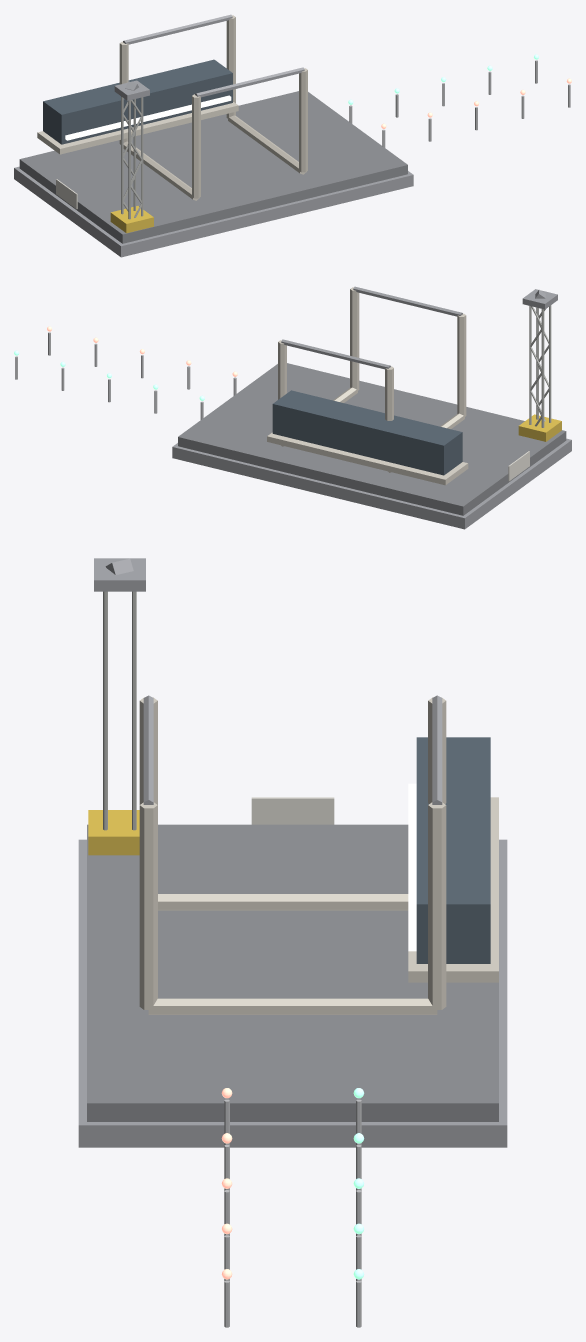
The model's file is render.glb.
3 views of the same model, one above another, from view 1: azimuth 30°, elevation 25°; view 2: azimuth 150°, elevation 25°; view 3: azimuth 270°, elevation 25° (orthographic). The views are drawn at different scales.
Parts seen in each view (by area): view 1: deck, walk_glass, deck_frame, cradle_f, cradle_a, walk_deck, mast_col, walk_glow, mast_foot, cradle_tie_s, cradle_tie_p, mast_head (+1 smaller); view 2: deck, walk_glass, deck_frame, walk_deck, mast_col, cradle_a, cradle_f, mast_foot, cradle_tie_p, cradle_tie_s, mast_head, plate; view 3: deck, deck_frame, walk_glass, cradle_f, cradle_a, walk_deck, mast_col, plate, mast_foot, walk_glow, mast_head, cradle_tie_p (+1 smaller).
Boxes of the visible parts, x1=… form: deck: x1=19, y1=91, x2=407, y2=243; walk_glass: x1=43, y1=59, x2=232, y2=144; deck_frame: x1=14, y1=166, x2=413, y2=257; cradle_f: x1=226, y1=15, x2=307, y2=174; cradle_a: x1=119, y1=41, x2=200, y2=200; walk_deck: x1=37, y1=102, x2=238, y2=154; mast_col: x1=121, y1=96, x2=143, y2=219; walk_glow: x1=65, y1=95, x2=231, y2=140; mast_foot: x1=110, y1=206, x2=153, y2=233; cradle_tie_s: x1=195, y1=67, x2=304, y2=97; cradle_tie_p: x1=123, y1=14, x2=232, y2=44; mast_head: x1=114, y1=80, x2=149, y2=100; deck: x1=178, y1=363, x2=566, y2=515; walk_glass: x1=272, y1=390, x2=462, y2=475; deck_frame: x1=172, y1=438, x2=571, y2=529; walk_deck: x1=267, y1=432, x2=468, y2=485; mast_col: x1=529, y1=305, x2=551, y2=427; cradle_a: x1=385, y1=313, x2=466, y2=472; cradle_f: x1=278, y1=287, x2=359, y2=446; mast_foot: x1=518, y1=414, x2=561, y2=441; cradle_tie_p: x1=281, y1=339, x2=390, y2=369; cradle_tie_s: x1=353, y1=286, x2=462, y2=316; mast_head: x1=522, y1=289, x2=557, y2=309; plate: x1=508, y1=451, x2=529, y2=481; deck: x1=87, y1=824, x2=498, y2=1121; deck_frame: x1=78, y1=839, x2=507, y2=1147; walk_glass: x1=416, y1=737, x2=490, y2=963; cradle_f: x1=139, y1=802, x2=446, y2=1014; cradle_a: x1=139, y1=697, x2=446, y2=910; walk_deck: x1=408, y1=797, x2=498, y2=982; mast_col: x1=103, y1=591, x2=136, y2=830; plate: x1=251, y1=797, x2=334, y2=824; mast_foot: x1=88, y1=810, x2=139, y2=855; walk_glow: x1=408, y1=783, x2=416, y2=951; mast_head: x1=94, y1=558, x2=145, y2=591; cradle_tie_p: x1=432, y1=695, x2=442, y2=804.
Size of the model in its own units: 27.39 by 8.66 by 10.4.
